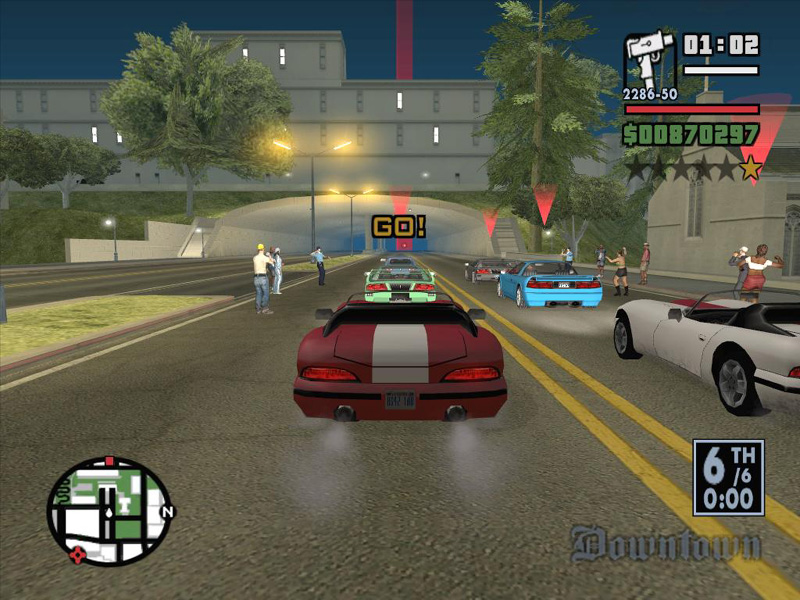car: (296, 295, 510, 426), (613, 283, 800, 417), (495, 261, 603, 308), (361, 264, 438, 308), (462, 256, 512, 286)
